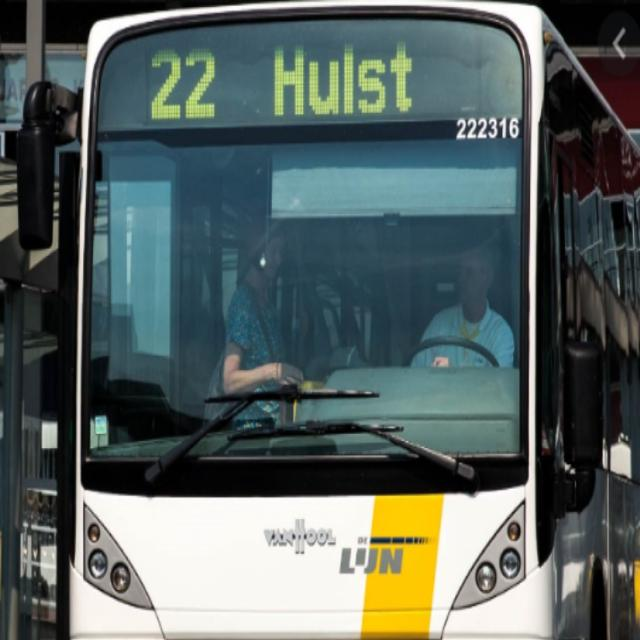bus-number: (146, 44, 221, 126)
